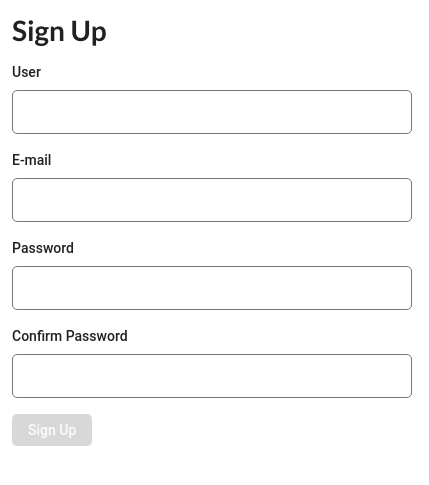
Test: Sign Up Page › Interactions › Enable Button when passwords have same value
Step 1. Type "jonasperes" into the field labelled "User" → (212, 112), box [12,90,412,134]
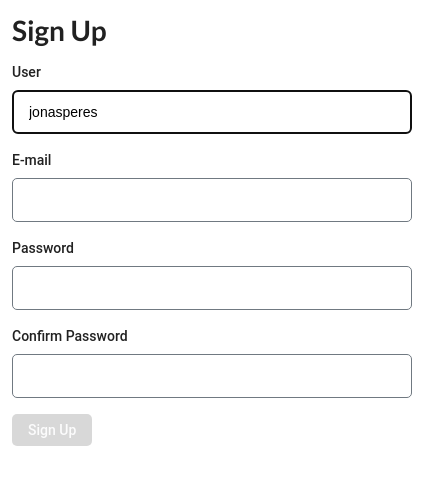
Step 2. Type "jonasperes10@hotmail.com" into the field labelled "E-mail" → (212, 200), box [12,178,412,222]
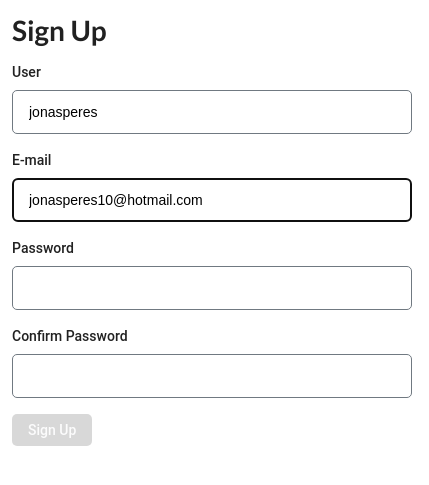
Step 3. Type "gonnaPass" into the password field labelled "Password" → (212, 288), box [12,266,412,310]
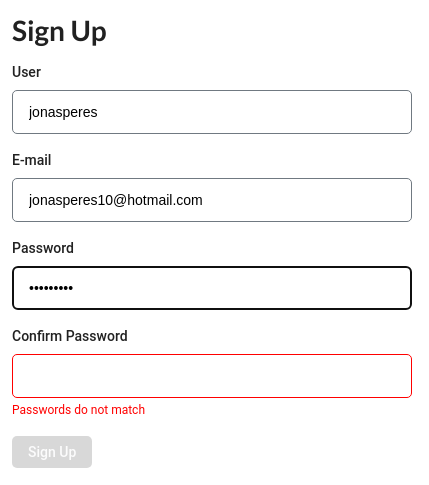
Step 4. Type "gonnaPass" into the password field labelled "Confirm Password" → (212, 376), box [12,354,412,398]
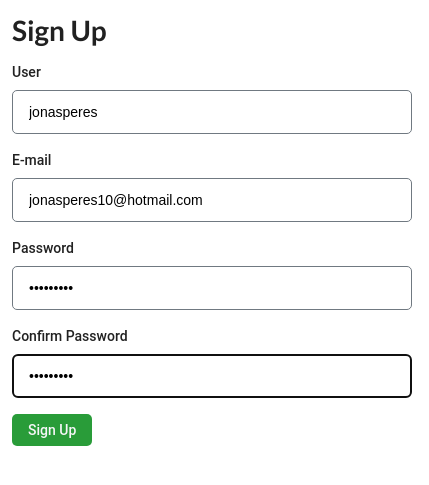
Expected: the button is enabled, [12,414,92,446]
